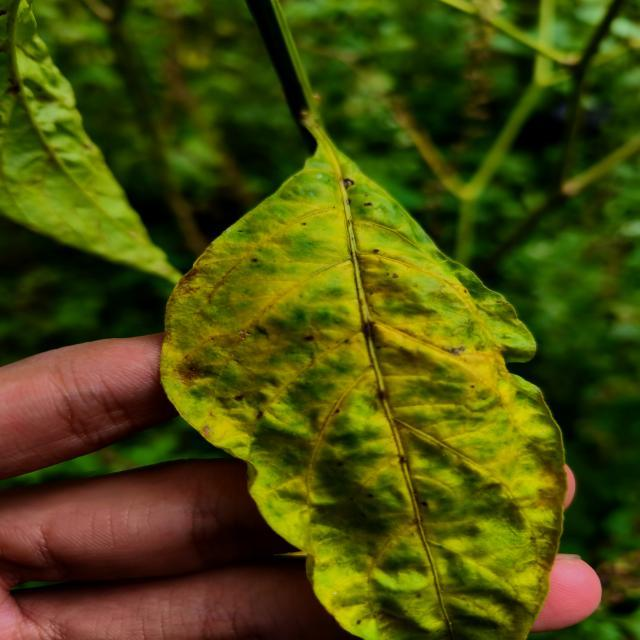Virus Kuning: (157, 150, 568, 639), (0, 0, 185, 285)
